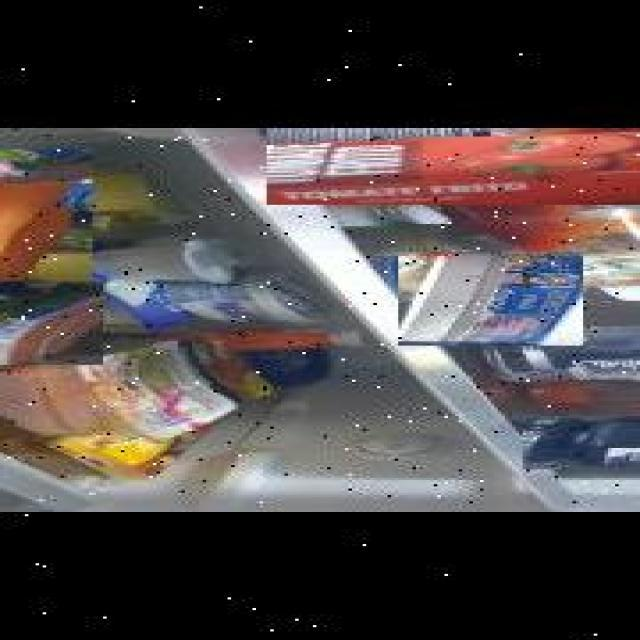carrot: (0, 149, 121, 316)
cheese: (393, 252, 578, 346)
marmelade: (519, 416, 640, 470)
sausage: (0, 282, 128, 364)
tomato_sauce: (259, 128, 640, 205)
